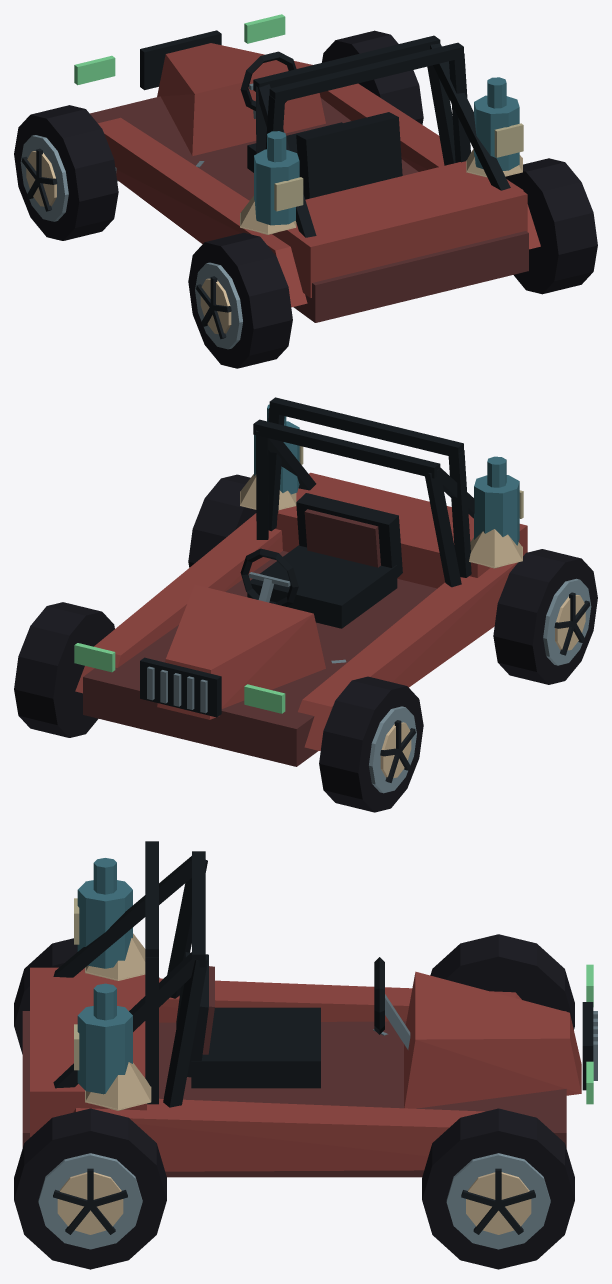
The model's file is kart.glb.
3 views of the same model, one above another, from view 1: azimuth 30°, elevation 25°; view 2: azimuth 150°, elevation 25°; view 3: azimuth 270°, elevation 25° (orthographic). The views are drawn at different scales.
Parts seen in each view (by area): view 1: identity-buggy-buggy-offroad-frame, wheel-rear-left, wheel-front-left, wheel-rear-right, identity-buggy-driver-cockpit, identity-buggy-motif-bottles, identity-buggy-motif-rollbar, wheel-front-right, identity-buggy-motif-gems; view 2: identity-buggy-buggy-offroad-frame, identity-buggy-driver-cockpit, wheel-front-left, wheel-rear-left, wheel-front-right, identity-buggy-motif-rollbar, identity-buggy-motif-bottles, wheel-rear-right, identity-buggy-motif-gems; view 3: identity-buggy-buggy-offroad-frame, wheel-front-right, wheel-rear-right, identity-buggy-driver-cockpit, identity-buggy-motif-bottles, wheel-front-left, identity-buggy-motif-rollbar, identity-buggy-motif-gems, wheel-rear-left.
Boxes of the visible parts, x1,y1,x2,y2 form: identity-buggy-buggy-offroad-frame: (74, 14, 540, 322); wheel-rear-left: (188, 232, 292, 368); wheel-front-left: (14, 105, 118, 240); wheel-rear-right: (505, 158, 597, 294); identity-buggy-driver-cockpit: (240, 51, 402, 199); identity-buggy-motif-bottles: (254, 77, 523, 225); identity-buggy-motif-rollbar: (265, 42, 470, 162); wheel-front-right: (322, 30, 423, 124); identity-buggy-motif-gems: (240, 149, 522, 234); identity-buggy-buggy-offroad-frame: (74, 419, 527, 766); identity-buggy-driver-cockpit: (240, 493, 402, 628); wheel-front-left: (319, 676, 423, 812); wheel-rear-left: (493, 549, 597, 684); wheel-front-right: (14, 602, 114, 737); identity-buggy-motif-rollbar: (268, 397, 471, 577); identity-buggy-motif-bottles: (254, 404, 523, 545); wheel-rear-right: (188, 474, 256, 567); identity-buggy-motif-gems: (240, 474, 522, 568); identity-buggy-buggy-offroad-frame: (22, 851, 597, 1177); wheel-front-right: (422, 1108, 574, 1269); wheel-rear-right: (14, 1108, 166, 1269); identity-buggy-driver-cockpit: (176, 952, 410, 1088); identity-buggy-motif-bottles: (74, 858, 132, 1094); wheel-front-left: (430, 934, 574, 1029); identity-buggy-motif-rollbar: (145, 841, 158, 1104); identity-buggy-motif-gems: (85, 933, 151, 1110); wheel-rear-left: (14, 938, 159, 1054).
Bounding box in the file's own units: 2.31 × 1.43 × 2.75.
